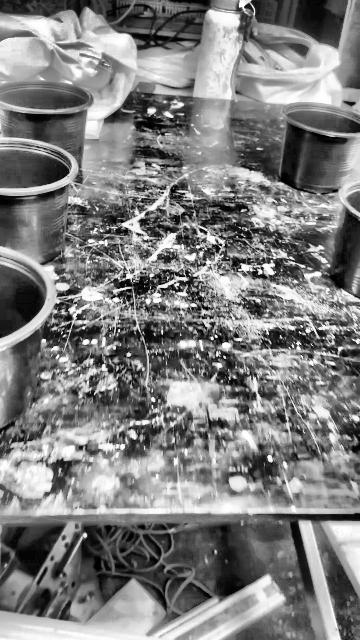pot: (1, 139, 83, 347), (0, 247, 55, 429), (0, 81, 93, 167), (279, 103, 359, 191), (331, 181, 359, 297)
